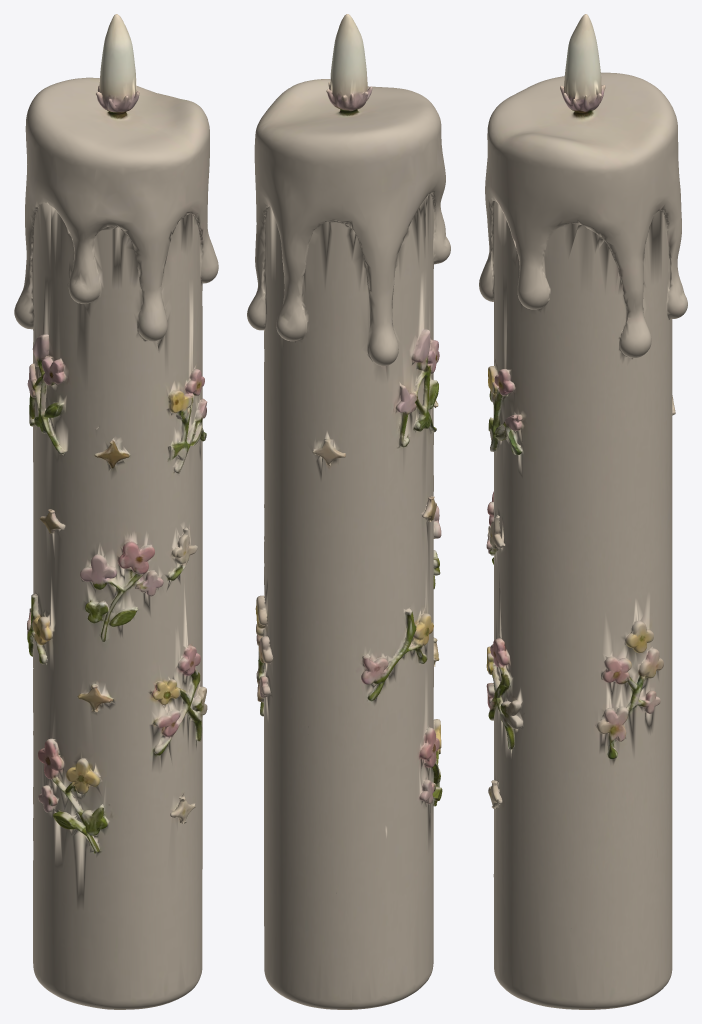
The model's file is candle.glb.
3 renders of one model, left to right at view 1: azimuth 30°, elevation 25°; view 2: azimuth 150°, elevation 25°; view 3: azimuth 270°, elevation 25°, orthographic.
Parts seen in each view (by area): view 1: tripo_node_e2c08c64-4773-4461-bd7f-020c5f9d5f1d; view 2: tripo_node_e2c08c64-4773-4461-bd7f-020c5f9d5f1d; view 3: tripo_node_e2c08c64-4773-4461-bd7f-020c5f9d5f1d.
Part boxes in pixels (<box>): tripo_node_e2c08c64-4773-4461-bd7f-020c5f9d5f1d: <box>14,14,218,1009</box>; tripo_node_e2c08c64-4773-4461-bd7f-020c5f9d5f1d: <box>247,14,450,1009</box>; tripo_node_e2c08c64-4773-4461-bd7f-020c5f9d5f1d: <box>479,14,687,1009</box>.
Size of the model in its own units: 0.1691 by 0.981 by 0.1923.
Materials: 1 (1 with a texture image).
